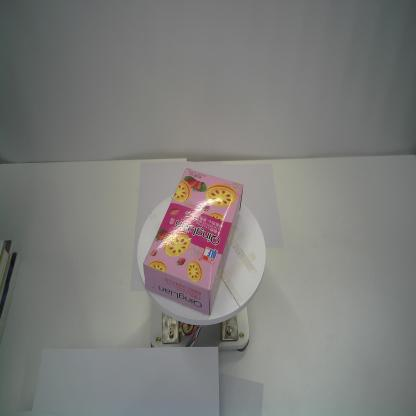Dessert: (142, 166, 244, 318)
